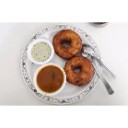vada: (64, 57, 93, 84), (53, 31, 82, 56)
